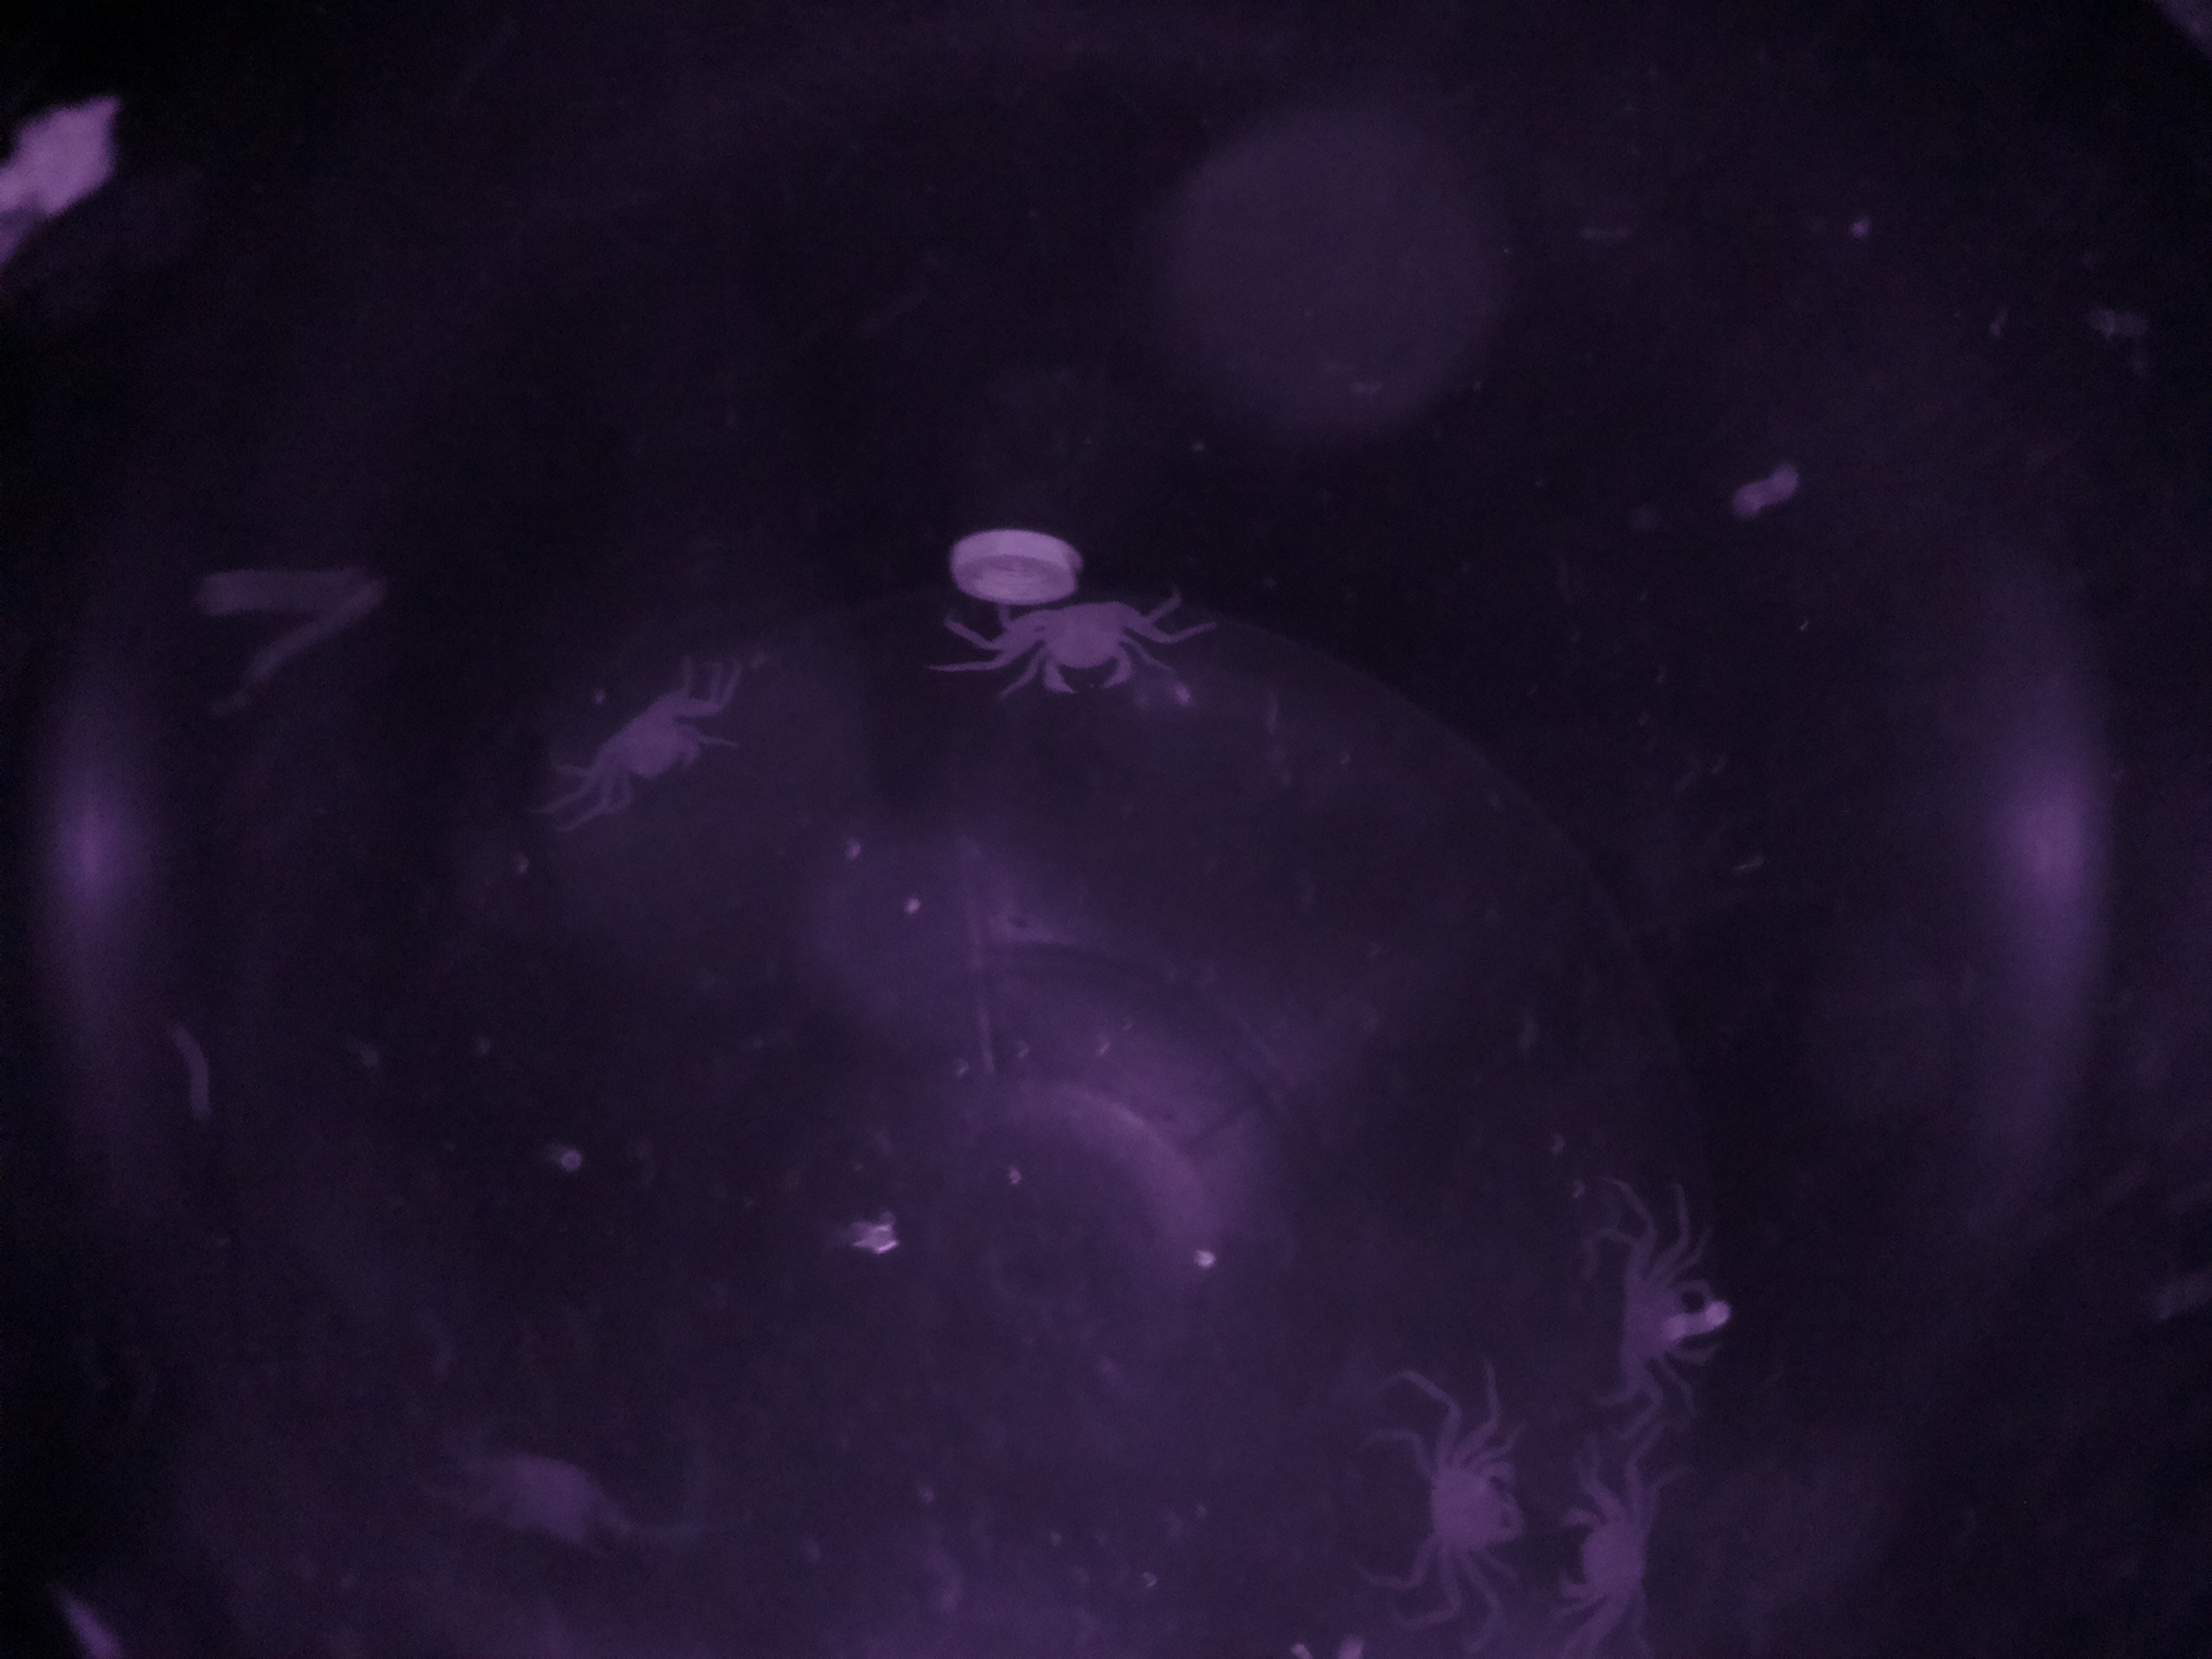Crab: (1547, 1450, 1693, 1640), (972, 570, 1183, 695), (1413, 1401, 1536, 1600), (1609, 1216, 1738, 1406)
